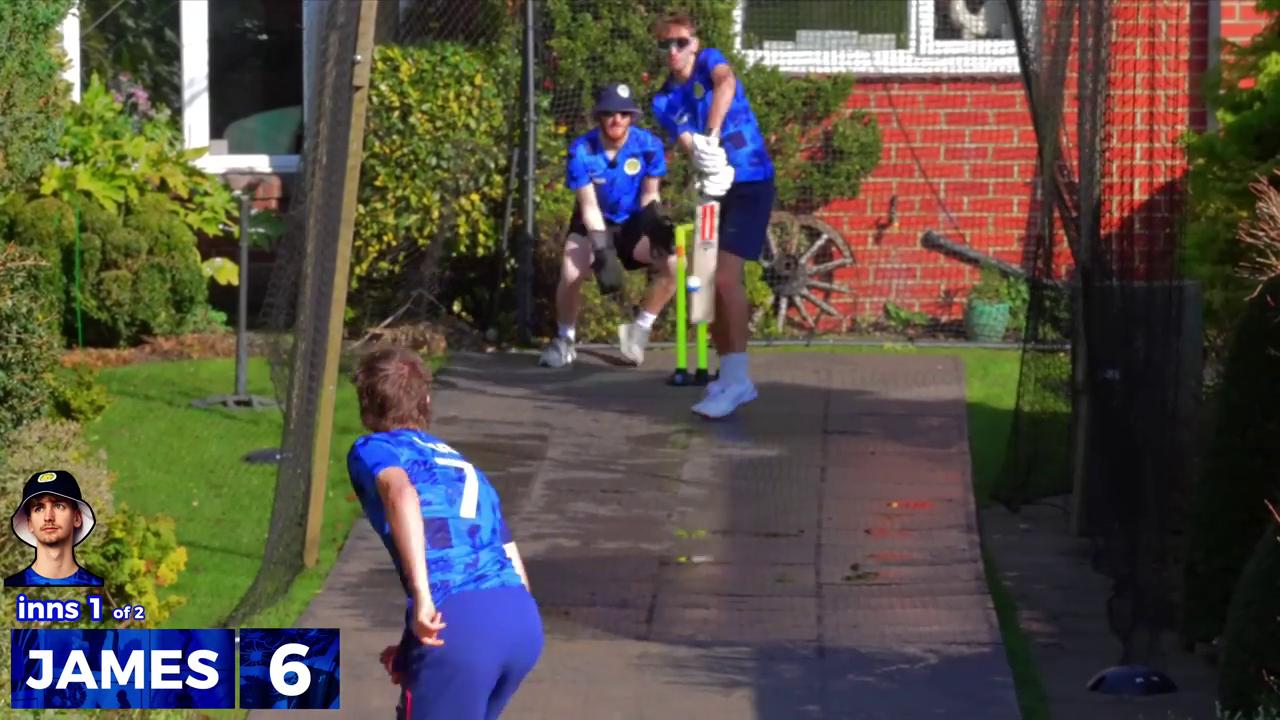ball: (681, 272, 710, 298)
